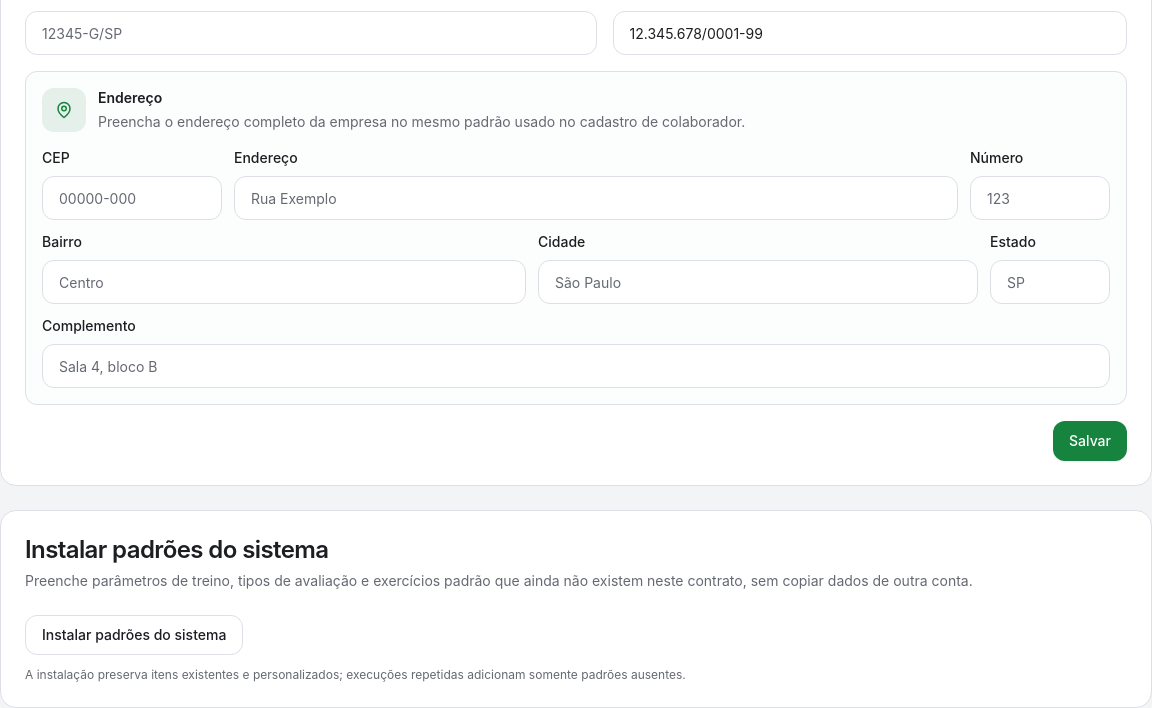
Test: ContractSettings install product defaults › impede um segundo acionamento enquanto a instalação ainda está pendente
The image size is (1152, 708).
(page scrolled)
Click the button "Instalar padrões do sistema": (134,635) [25,615,243,655]
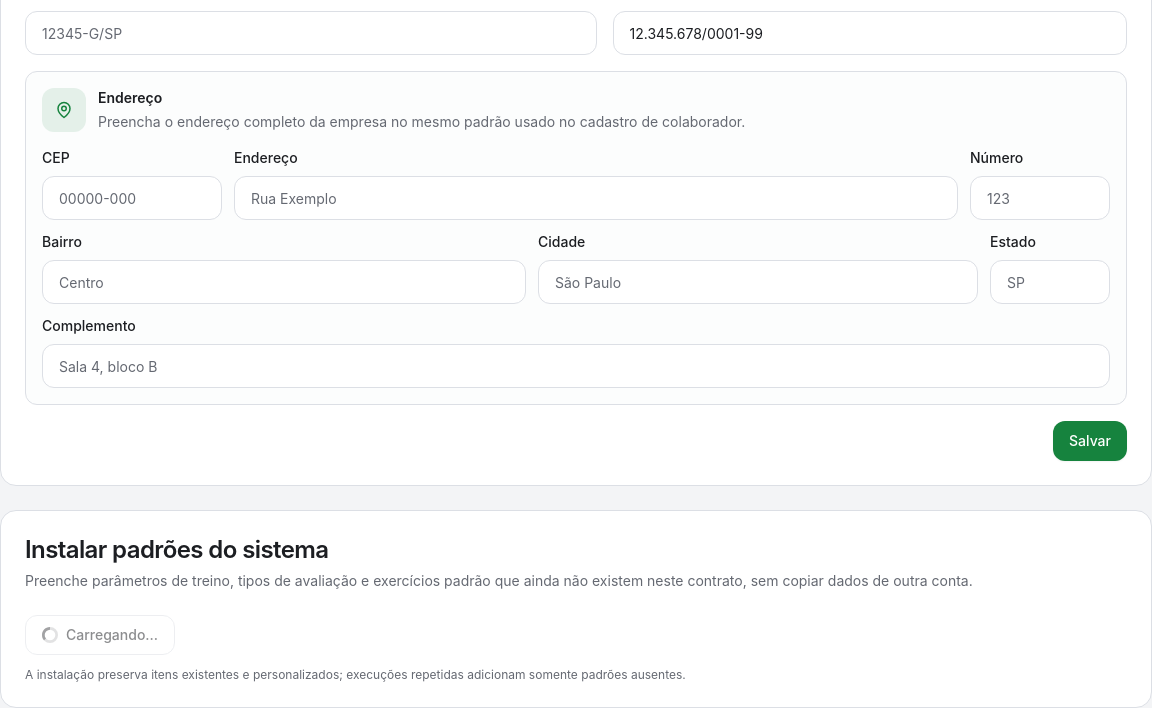
Now the button named "Instalar padrões do sistema" is disabled
Click the button named "Instalar padrões do sistema": (100,635) [25,615,175,655]
(page scrolled)
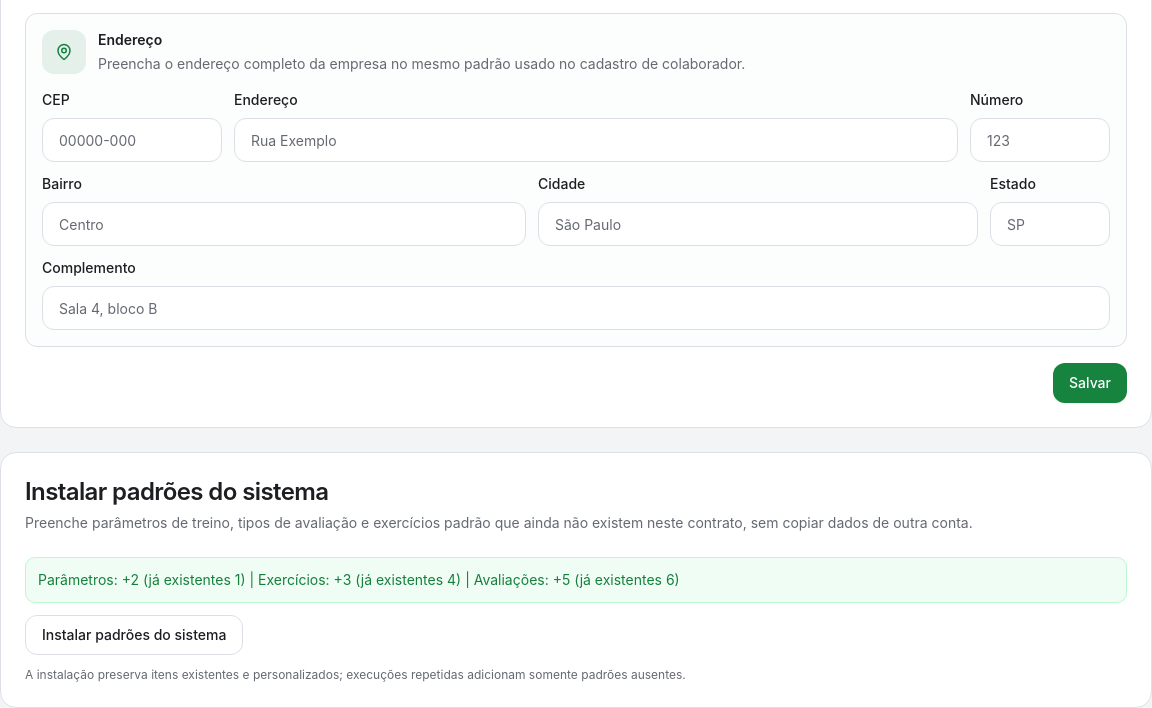
Now the button "Instalar padrões do sistema" is enabled, box [25,615,243,655]
